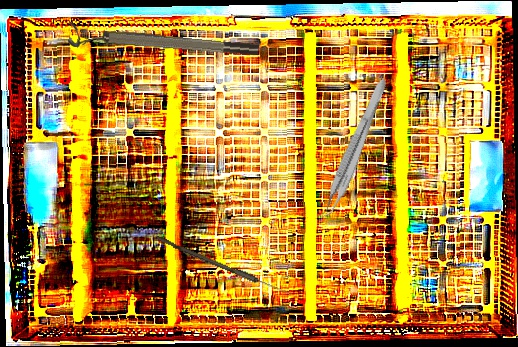Fixation Ring: (67, 21, 260, 67)
Surgical Spoon: (155, 235, 293, 298)
Tissue Forceps: (316, 74, 390, 224)
